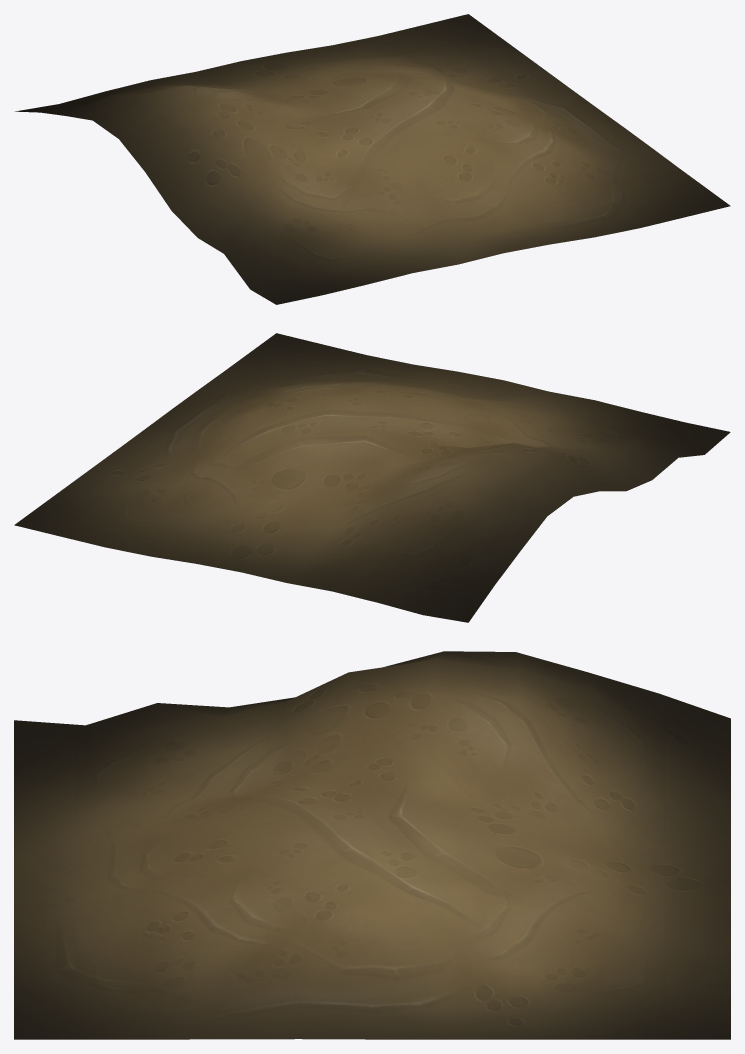
Rendered from A_CV_GEN_Floor_02.fbx.
3 views of the same model, one above another, from view 1: azimuth 30°, elevation 25°; view 2: azimuth 150°, elevation 25°; view 3: azimuth 270°, elevation 25° (orthographic). The views are drawn at different scales.
Parts seen in each view (by area): view 1: pPlane2; view 2: pPlane2; view 3: pPlane2.
Part boxes in pixels (<box>): pPlane2: <box>15,14,730,304</box>; pPlane2: <box>14,333,730,622</box>; pPlane2: <box>14,651,730,1039</box>.
Bounding box in the file's own units: 1500 × 248 × 1500.
1 material, 1 textured.
